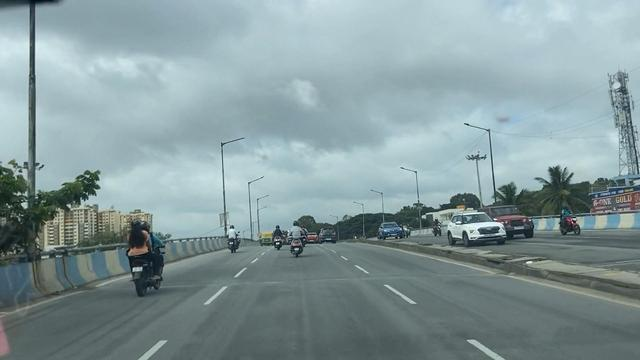LMV: (131, 217, 168, 291), (289, 221, 304, 260), (225, 223, 241, 257), (271, 223, 282, 251)
